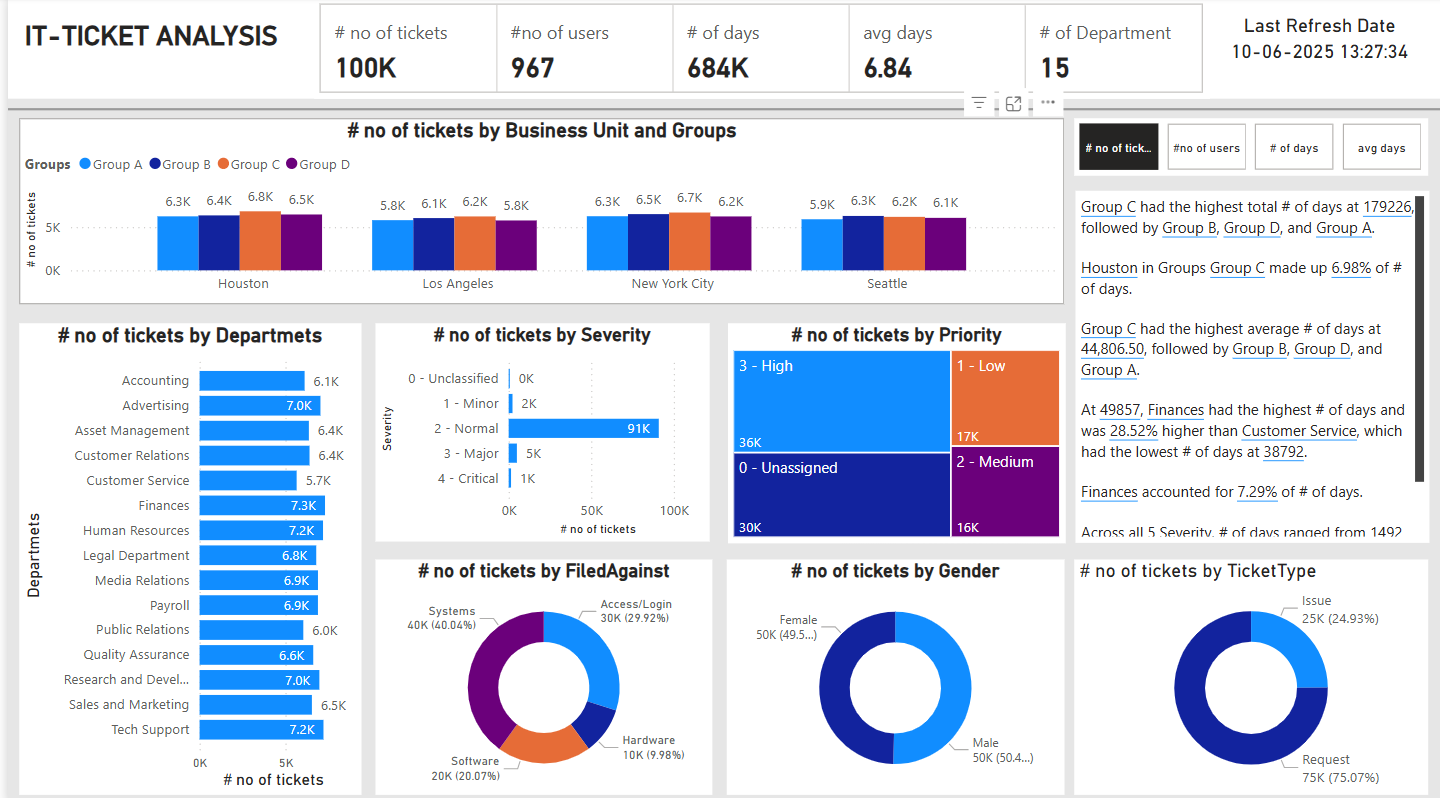

The dashboard page shown, as its layout file describes it:
{"tool":"powerbi","page":{"name":"MainDashboard","canvas":[1280,720],"ordinal":0},"visuals":[{"type":"shape","box":[0,1.4,1279.7,89.5],"z":0},{"type":"shape","box":[0,90.9,1279.7,17.3],"z":1000},{"type":"textbox","box":[10.1,15.9,248.2,50.5],"z":2000},{"type":"card","title":"Last Refresh Date","fields":{"Values":["Min(LastRefreshDate.LastRefresh)"]},"box":[1070.4,15.1,194.5,48.4],"z":3000},{"type":"cardVisual","fields":{"Data":["All Measures.# no of tickets","All Measures.#no of users","All Measures.# of days","All Measures.avg days","All Measures.# of Department"]},"box":[272.7,1.4,797.8,89.5],"z":4000},{"type":"clusteredColumnChart","fields":{"Y":["All Measures.# no of tickets"],"Category":["IT-Help-Desk.Business Unit"],"Series":["IT-Help-Desk.Groups"]},"box":[9.8,108,931.3,165.6],"z":5000},{"type":"advancedSlicerVisual","fields":{"Values":["Dynamic Metrics.Dynamic Metrics"]},"box":[949.7,108,315.3,51.5],"z":6000},{"type":"clusteredBarChart","fields":{"Y":["All Measures.# no of tickets"],"Category":["IT-Help-Desk.Departmets"]},"box":[10.1,290,304.4,419.8],"z":7000},{"type":"clusteredBarChart","fields":{"Y":["All Measures.# no of tickets"],"Category":["IT-Help-Desk.Severity"]},"box":[327.5,290,297.2,194.8],"z":8000},{"type":"donutChart","fields":{"Y":["All Measures.# no of tickets"],"Category":["IT-Help-Desk.FiledAgainst"]},"box":[327.5,500.6,300.1,209.2],"z":9000},{"type":"treemap","fields":{"Values":["All Measures.# no of tickets"],"Group":["IT-Help-Desk.Priority"]},"box":[640.7,290.1,300.8,195.8],"z":10000},{"type":"donutChart","fields":{"Y":["All Measures.# no of tickets"],"Category":["IT-Help-Desk.Gender"]},"box":[640.5,500.6,300.6,209.8],"z":11000},{"type":"donutChart","fields":{"Y":["All Measures.# no of tickets"],"Category":["IT-Help-Desk.TicketType"]},"box":[949.7,500.6,315.3,209.8],"z":12000},{"type":"textbox","box":[950.4,172.6,315,313.2],"z":13000}]}

Visuals, with their boxes in screenshot pixels (x1, y1, x2, y2), scaled from the page's 1280x720 canvas onto the 1440x798 screenshot:
shape: (x1=0, y1=2, x2=1439, y2=101)
shape: (x1=0, y1=101, x2=1439, y2=120)
textbox: (x1=11, y1=18, x2=291, y2=74)
"Last Refresh Date" card: (x1=1204, y1=17, x2=1423, y2=70)
cardVisual - All Measures.# no of tickets x All Measures.#no of users: (x1=307, y1=2, x2=1204, y2=101)
clusteredColumnChart - All Measures.# no of tickets x IT-Help-Desk.Business Unit: (x1=11, y1=120, x2=1059, y2=303)
advancedSlicerVisual - Dynamic Metrics.Dynamic Metrics: (x1=1068, y1=120, x2=1423, y2=177)
clusteredBarChart - All Measures.# no of tickets x IT-Help-Desk.Departmets: (x1=11, y1=321, x2=354, y2=787)
clusteredBarChart - All Measures.# no of tickets x IT-Help-Desk.Severity: (x1=368, y1=321, x2=703, y2=537)
donutChart - All Measures.# no of tickets x IT-Help-Desk.FiledAgainst: (x1=368, y1=555, x2=706, y2=787)
treemap - All Measures.# no of tickets x IT-Help-Desk.Priority: (x1=721, y1=322, x2=1059, y2=539)
donutChart - All Measures.# no of tickets x IT-Help-Desk.Gender: (x1=721, y1=555, x2=1059, y2=787)
donutChart - All Measures.# no of tickets x IT-Help-Desk.TicketType: (x1=1068, y1=555, x2=1423, y2=787)
textbox: (x1=1069, y1=191, x2=1424, y2=538)
